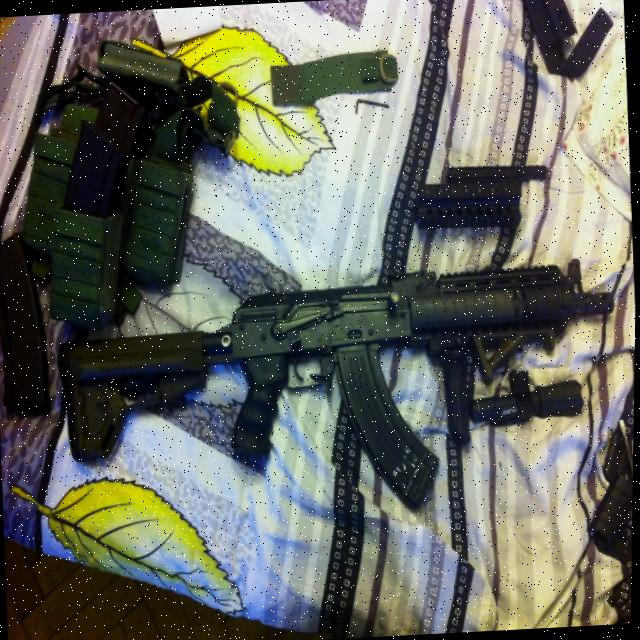firearm: (54, 255, 626, 530)
knife: (617, 414, 635, 556)
